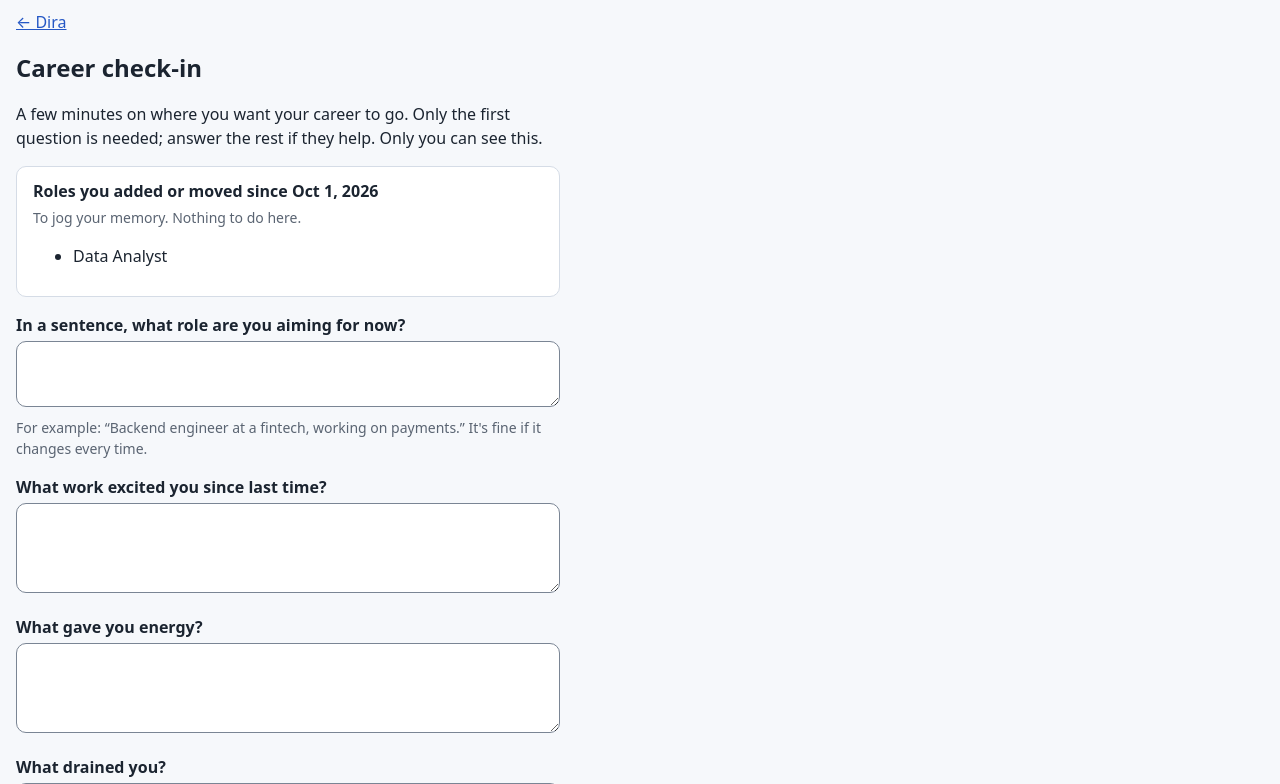
it: Dira › saves a check-in with the roles listed as reminders
Check: the list item "Data Analyst" is shown, box [73,245,167,267]
In the text box labelled "In a sentence, what role are you aiming for now?": (288, 374) [16,341,560,407], type "Platform engineer"
(page scrolled)
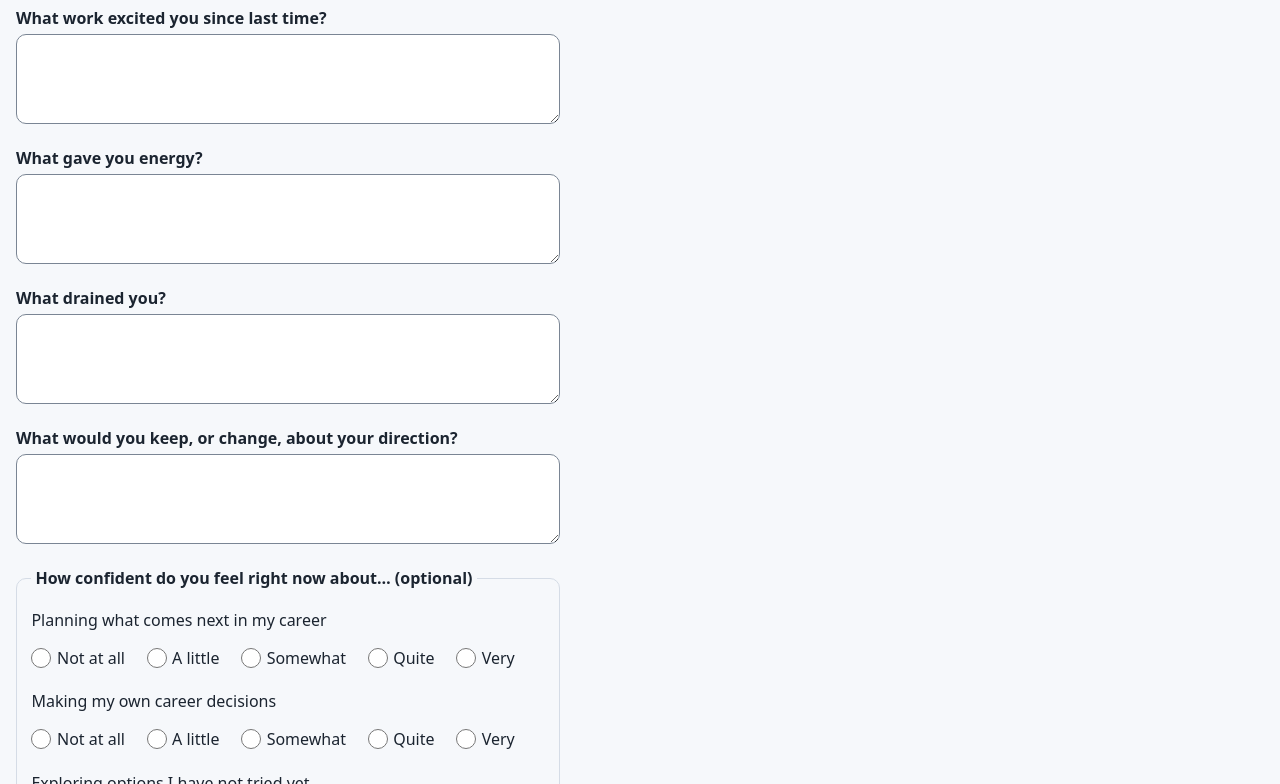
In the text box labelled "What drained you?": (288, 359) [16,314,560,404], type "Cold applications"
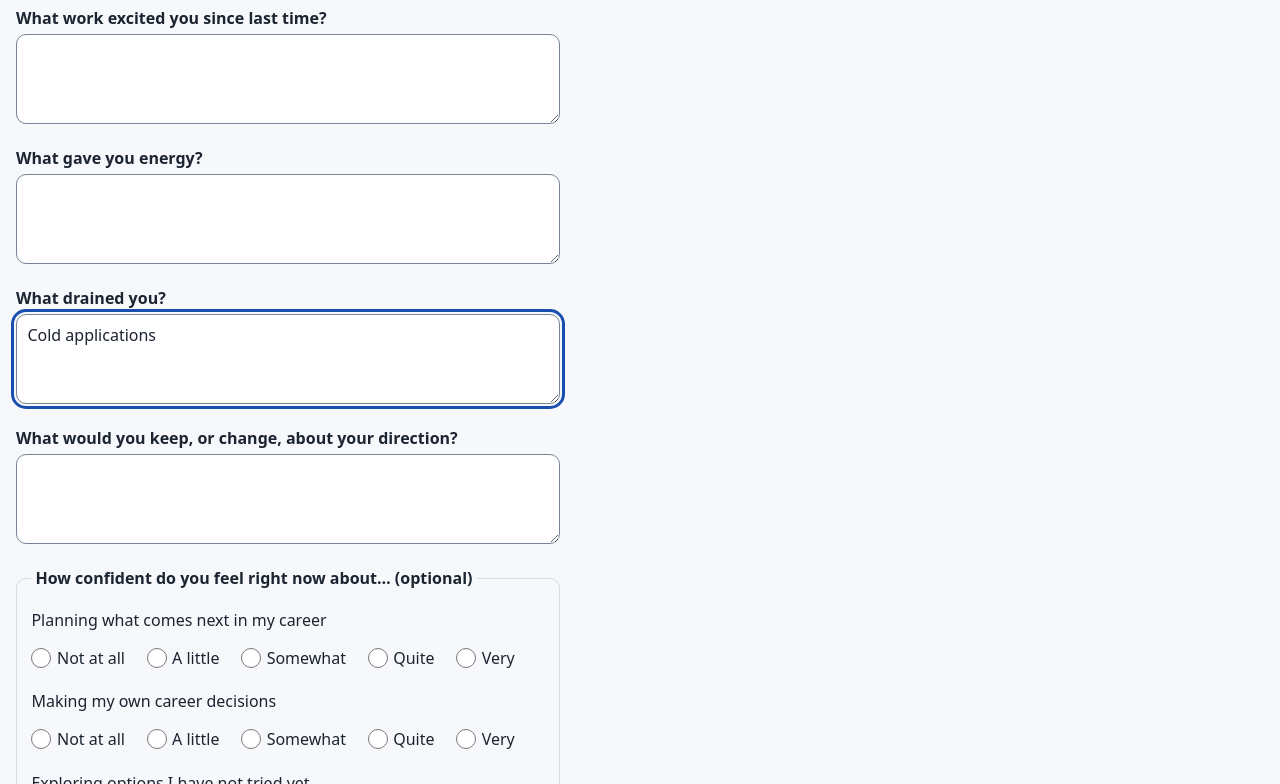
Click the radio button labelled "Quite" below "Planning what comes next in my career": (378, 658) [368,648,388,668]
(page scrolled)
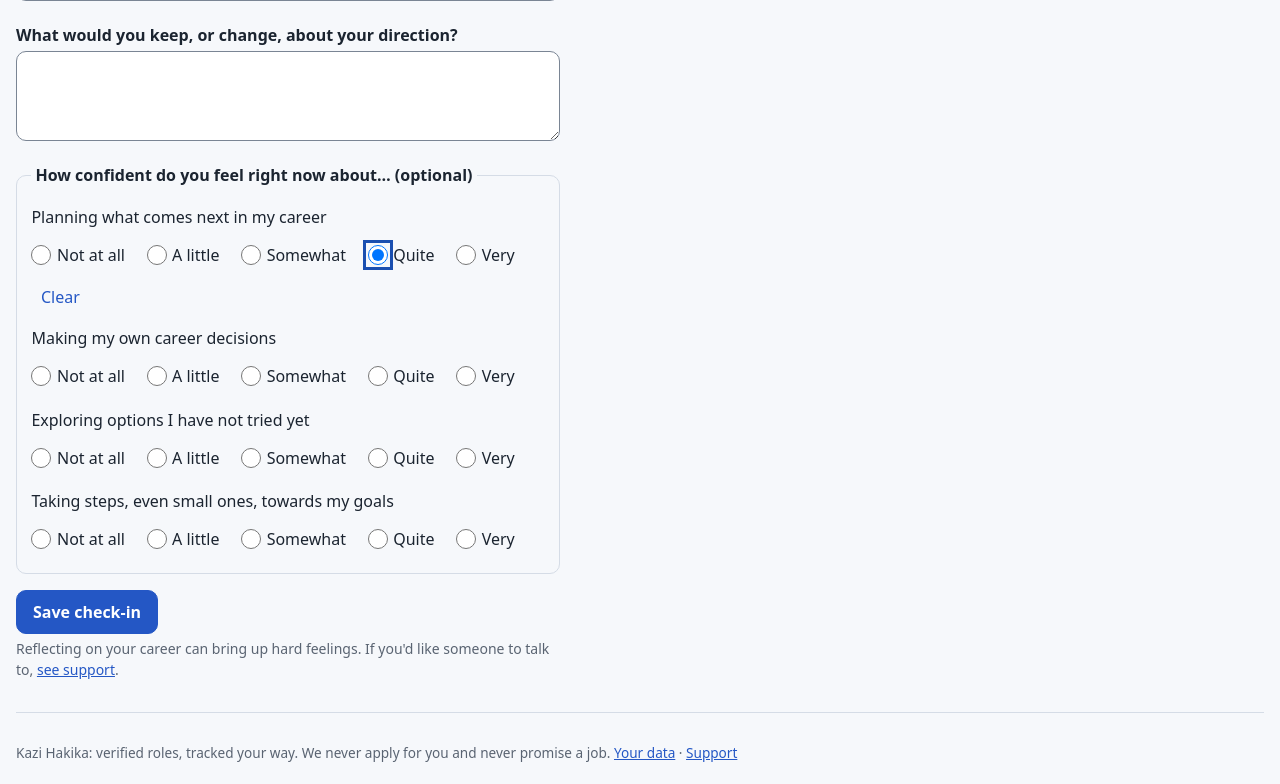
Click the button "Save check-in": (87, 612) [16,590,158,634]
(page scrolled)
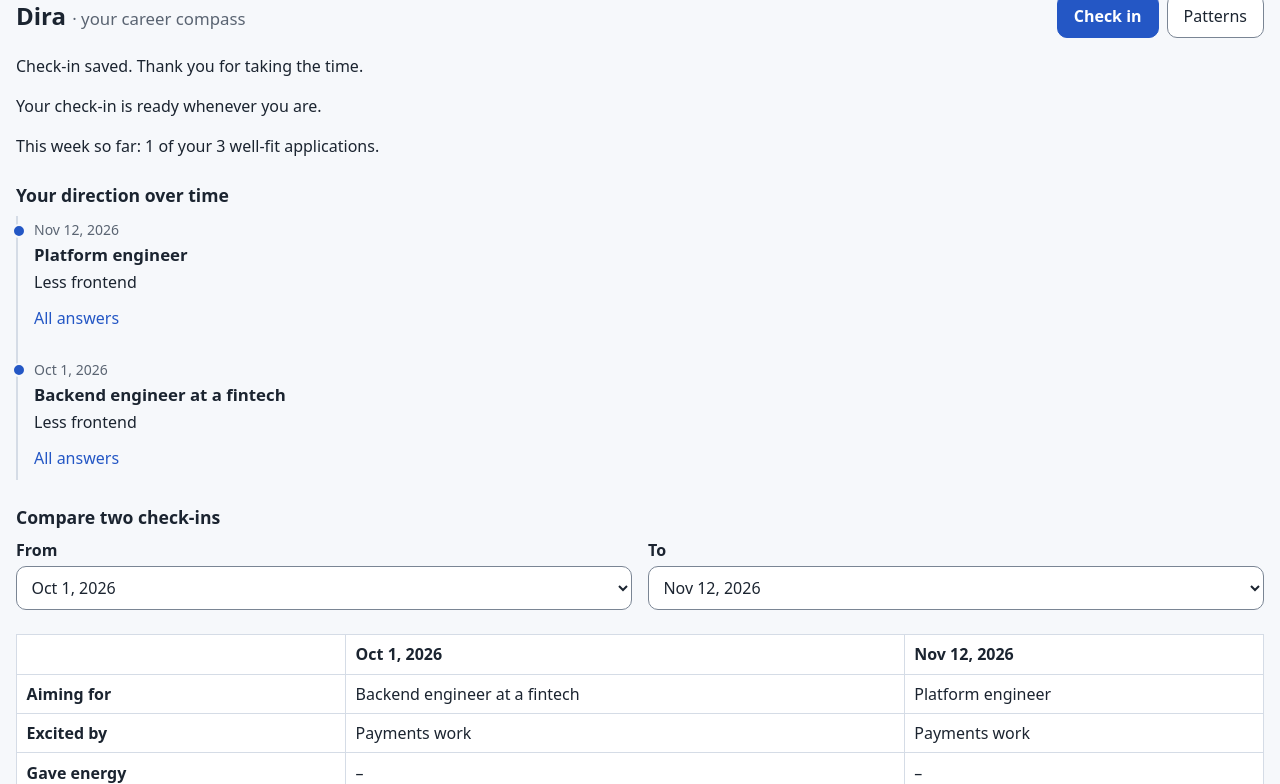
Check: the text "Check-in saved. Thank you for taking the time." is shown, box [16,55,363,77]
